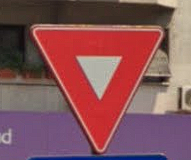cedeaza: (27, 19, 170, 157)
